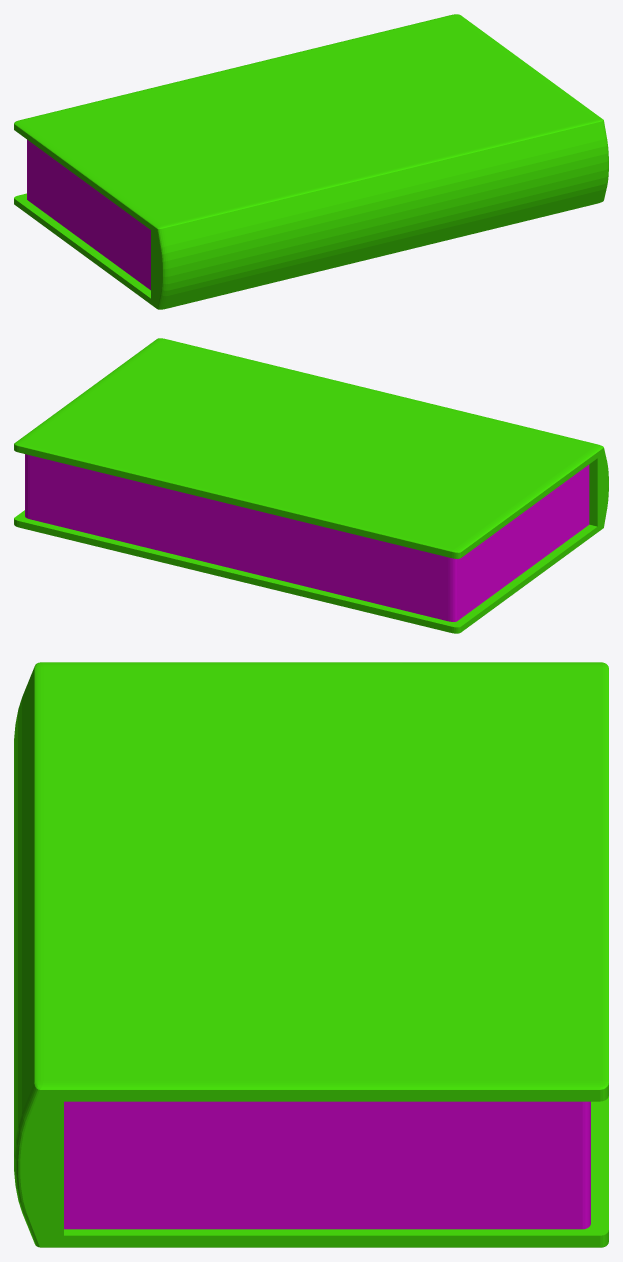
File: Small-Book.fbx
3 views of the same model, one above another, from view 1: azimuth 30°, elevation 25°; view 2: azimuth 150°, elevation 25°; view 3: azimuth 270°, elevation 25° (orthographic). The views are drawn at different scales.
Parts seen in each view (by area): view 1: Small-book-Cover, Small-book-Pages; view 2: Small-book-Cover, Small-book-Pages; view 3: Small-book-Cover, Small-book-Pages.
Part boxes in pixels (bbox=[...]): Small-book-Cover: bbox=[14, 14, 608, 309]; Small-book-Pages: bbox=[27, 139, 150, 290]; Small-book-Cover: bbox=[14, 338, 608, 633]; Small-book-Pages: bbox=[25, 454, 589, 621]; Small-book-Cover: bbox=[14, 662, 608, 1247]; Small-book-Pages: bbox=[64, 1101, 590, 1229].
Size of the model in its own units: 172 by 30.36 by 101.
